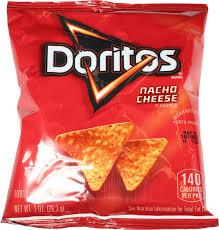Doritos: (13, 7, 188, 203)
